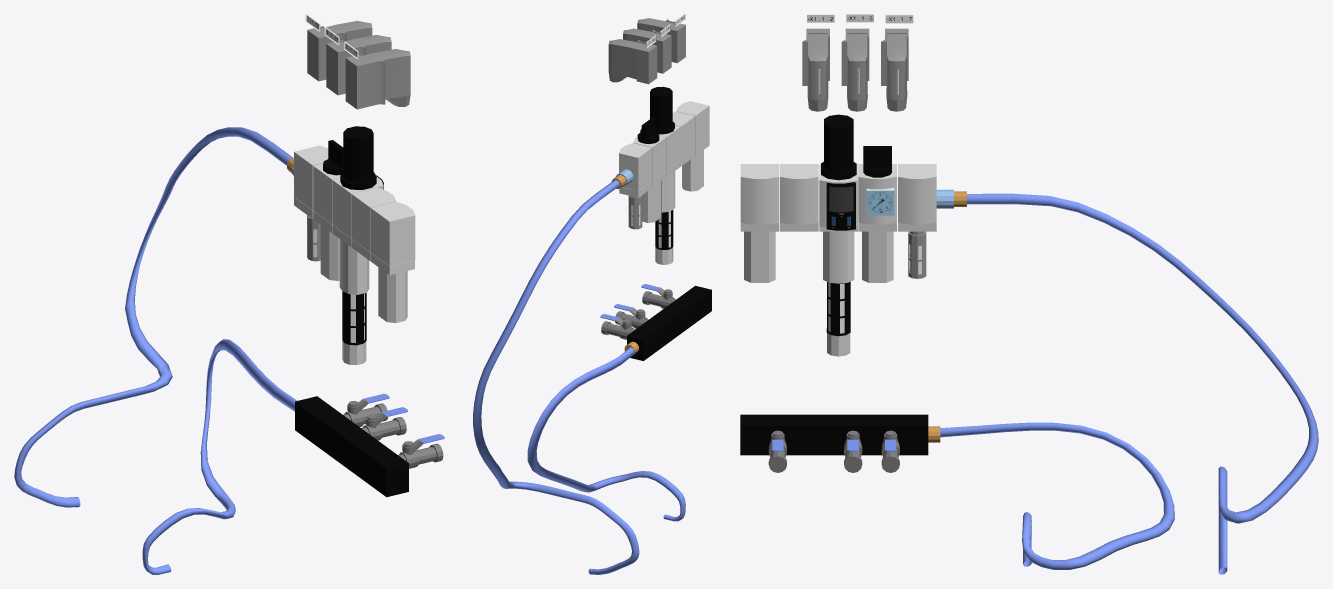
Rendered from FKR Machine.fbx.
3 renders of one model, left to right at view 1: azimuth 30°, elevation 25°; view 2: azimuth 150°, elevation 25°; view 3: azimuth 270°, elevation 25°, orthographic. The views are drawn at different scales.
Visible parts, largest first — view 1: _pCube683 (×5), _sweep9, _pCube690, _Holder (×3), _pCube686 (×3), _sweep10, _Fuse_Plug (×3), _pCube689, _pCylinder833 (×2), _pCylinder828, _pCube688; view 2: _sweep9, _pCube683 (×5), _sweep10, _pCube690, _Fuse_Plug (×3), _Holder (×3), _pCube686 (×3), _pCube689, _pCylinder833 (×2), _pCylinder828, _pCylinder832, _pCube688; view 3: _pCube683 (×4), _pCube690, _sweep9, _pCube686 (×3), _sweep10, _Fuse_Plug (×3), _pCube689, _pCube687, _pCylinder828, _pCube688, _pCylinder832, _pCube685.
Boxes of the visible parts, x1,y1,x2,y2 form: _pCube683 (×5): (294, 145, 415, 266); _sweep9: (14, 127, 292, 507); _pCube690: (295, 396, 408, 497); _Holder (×3): (307, 26, 385, 109); _pCube686 (×3): (320, 225, 407, 322); _sweep10: (142, 339, 297, 574); _Fuse_Plug (×3): (320, 20, 410, 106); _pCube689: (340, 126, 376, 189); _pCylinder833 (×2): (361, 414, 443, 468); _pCylinder828: (342, 291, 366, 345); _pCube688: (323, 140, 343, 175); _sweep9: (473, 180, 639, 574); _pCube683 (×5): (619, 101, 709, 190); _sweep10: (527, 347, 685, 521); _pCube690: (627, 285, 711, 360); _Fuse_Plug (×3): (608, 18, 674, 82); _Holder (×3): (636, 19, 685, 84); _pCube686 (×3): (642, 150, 703, 222); _pCube689: (650, 86, 674, 134); _pCylinder833 (×2): (601, 289, 675, 339); _pCylinder828: (655, 210, 673, 249); _pCylinder832: (628, 195, 642, 229); _pCube688: (637, 117, 659, 144); _pCube683 (×4): (740, 164, 936, 224); _pCube690: (740, 414, 928, 455); _sweep9: (967, 193, 1318, 574); _pCube686 (×3): (744, 231, 893, 283); _sweep10: (940, 422, 1174, 569); _Fuse_Plug (×3): (807, 34, 907, 111); _pCube689: (821, 114, 856, 180); _pCube687: (826, 182, 855, 230); _pCylinder828: (826, 281, 850, 336); _pCube688: (863, 146, 891, 177); _pCylinder832: (908, 231, 926, 278); _pCube685: (866, 188, 894, 215).
Bounding box in the file's own units: 45.44 × 120 × 105.
Materials: 9 (1 with a texture image).
